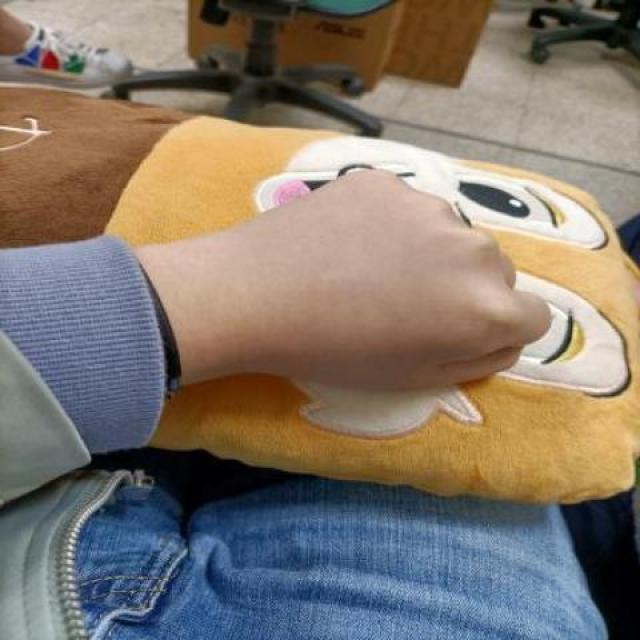Closed Hand: (231, 175, 558, 405)
